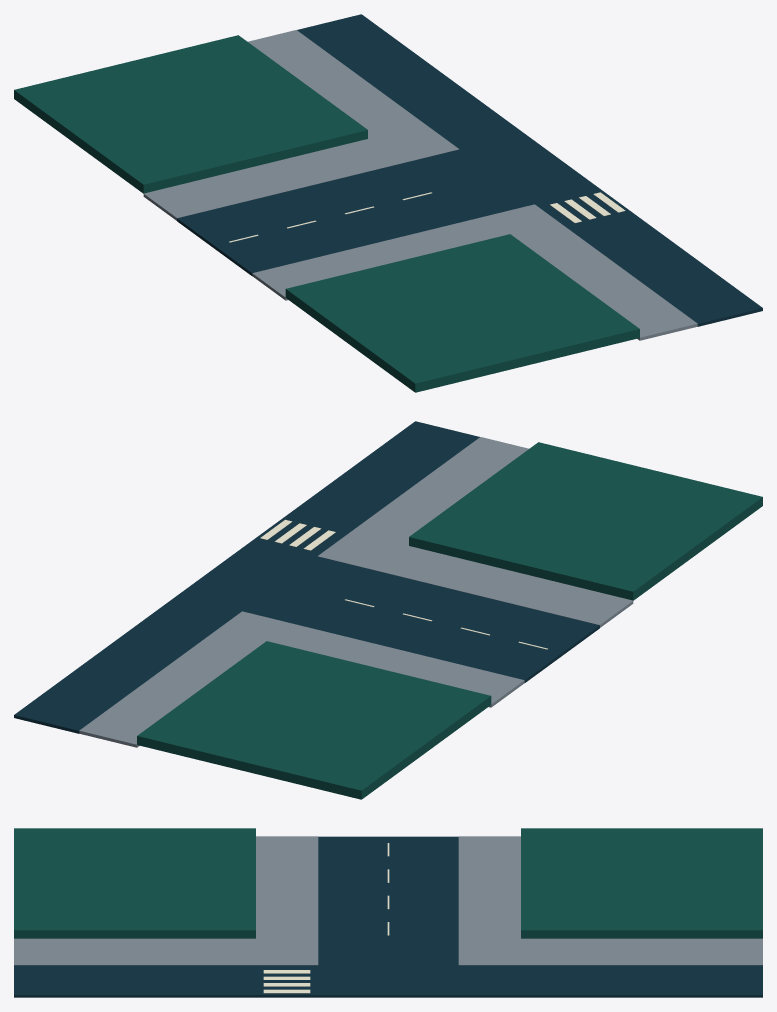
The model's file is s06_west.glb.
3 renders of one model, top to bottom at view 1: azimuth 30°, elevation 25°; view 2: azimuth 150°, elevation 25°; view 3: azimuth 270°, elevation 25°, orthographic. The views are drawn at different scales.
Visible parts, largest first — view 1: IslandSouth_west, IslandNorth_west, RoadHorizontal_west, RoadVerticalNorth_west, RoadVerticalSouth_west, WalkHorizontalNorth_west, WalkHorizontalSouth_west, WalkVerticalSouth_west, WalkVerticalNorth_west; view 2: IslandNorth_west, IslandSouth_west, RoadHorizontal_west, RoadVerticalNorth_west, RoadVerticalSouth_west, WalkHorizontalSouth_west, WalkHorizontalNorth_west, WalkVerticalNorth_west, WalkVerticalSouth_west; view 3: IslandNorth_west, IslandSouth_west, RoadHorizontal_west, RoadVerticalNorth_west, RoadVerticalSouth_west, WalkHorizontalNorth_west, WalkHorizontalSouth_west, WalkVerticalNorth_west, WalkVerticalSouth_west.
Boxes of the visible parts, bbox=[...] form: IslandSouth_west: bbox=[285, 234, 639, 392]; IslandNorth_west: bbox=[14, 35, 367, 193]; RoadHorizontal_west: bbox=[177, 133, 599, 275]; RoadVerticalNorth_west: bbox=[297, 14, 524, 149]; RoadVerticalSouth_west: bbox=[535, 188, 762, 326]; WalkHorizontalNorth_west: bbox=[143, 125, 459, 220]; WalkHorizontalSouth_west: bbox=[252, 204, 567, 300]; WalkVerticalSouth_west: bbox=[520, 229, 697, 340]; WalkVerticalNorth_west: bbox=[248, 30, 425, 138]; IslandNorth_west: bbox=[137, 641, 491, 799]; IslandSouth_west: bbox=[409, 442, 762, 600]; RoadHorizontal_west: bbox=[177, 540, 599, 682]; RoadVerticalNorth_west: bbox=[14, 595, 241, 733]; RoadVerticalSouth_west: bbox=[252, 421, 479, 556]; WalkHorizontalSouth_west: bbox=[317, 532, 633, 627]; WalkHorizontalNorth_west: bbox=[209, 611, 524, 707]; WalkVerticalNorth_west: bbox=[79, 636, 256, 747]; WalkVerticalSouth_west: bbox=[351, 437, 528, 545]; IslandNorth_west: bbox=[521, 828, 762, 938]; IslandSouth_west: bbox=[14, 828, 255, 938]; RoadHorizontal_west: bbox=[318, 836, 458, 997]; RoadVerticalNorth_west: bbox=[458, 965, 762, 997]; RoadVerticalSouth_west: bbox=[14, 965, 318, 997]; WalkHorizontalNorth_west: bbox=[458, 836, 520, 965]; WalkHorizontalSouth_west: bbox=[256, 836, 318, 965]; WalkVerticalNorth_west: bbox=[521, 938, 762, 965]; WalkVerticalSouth_west: bbox=[14, 938, 255, 965].
Bounding box in the file's own units: 24 × 0.8 × 48.
